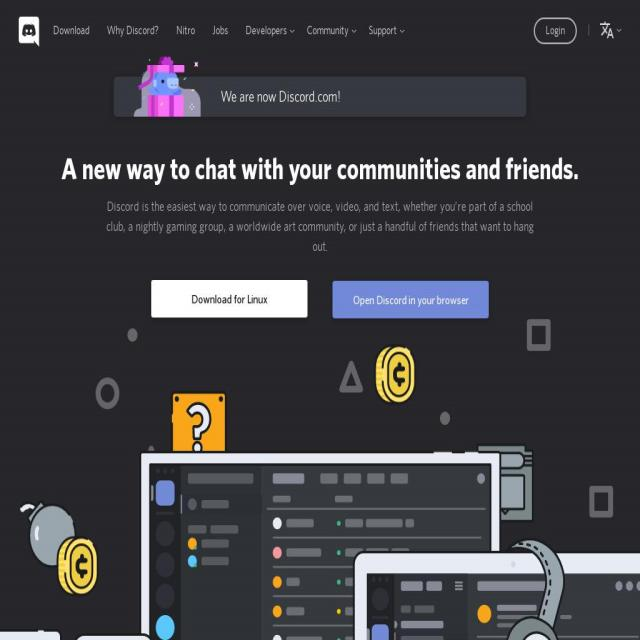download: (145, 265, 315, 332), (48, 12, 94, 46)
language: (591, 13, 619, 45)
login-option: (529, 17, 579, 50)
navigation-links: (42, 12, 412, 45)
